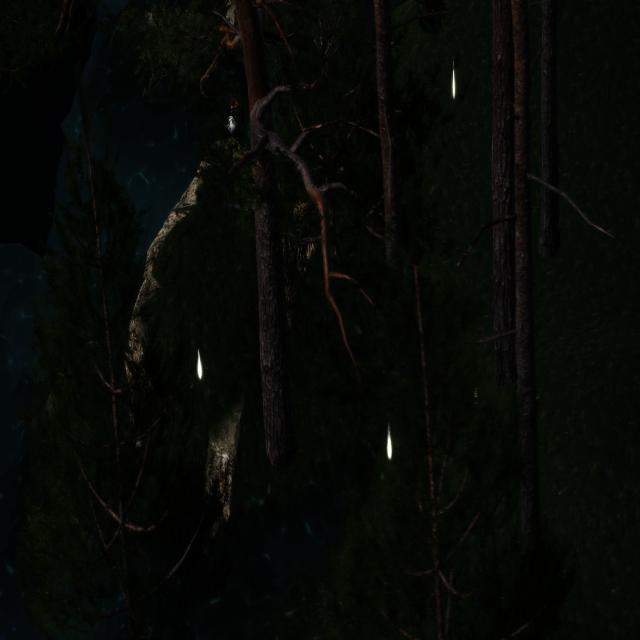Human: (184, 92, 252, 168)
